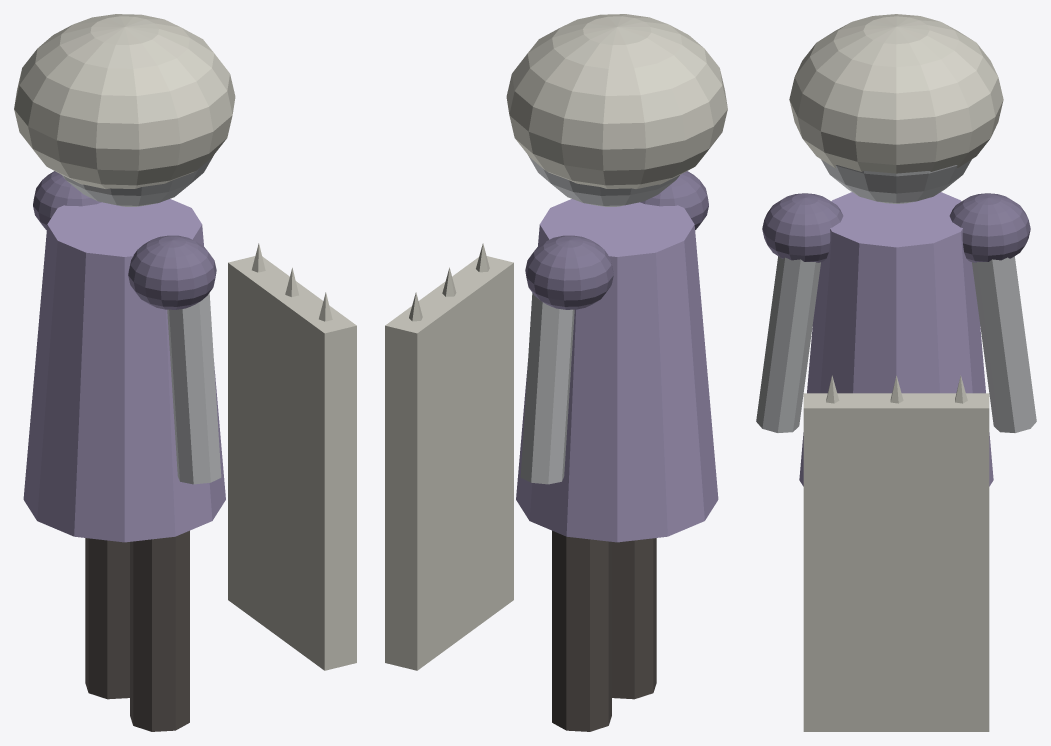
File: hero_vhorren_2.glb
3 views of the same model, side by side, from view 1: azimuth 30°, elevation 25°; view 2: azimuth 150°, elevation 25°; view 3: azimuth 270°, elevation 25° (orthographic). The views are drawn at different scales.
Parts seen in each view (by area): view 1: figurka; view 2: figurka; view 3: figurka.
Part boxes in pixels (left/top/right/bottom): figurka: left=14, top=14, right=356, bottom=731; figurka: left=385, top=14, right=727, bottom=731; figurka: left=756, top=14, right=1036, bottom=731.
Bounding box in the file's own units: 0.435 × 1.01 × 0.393.
